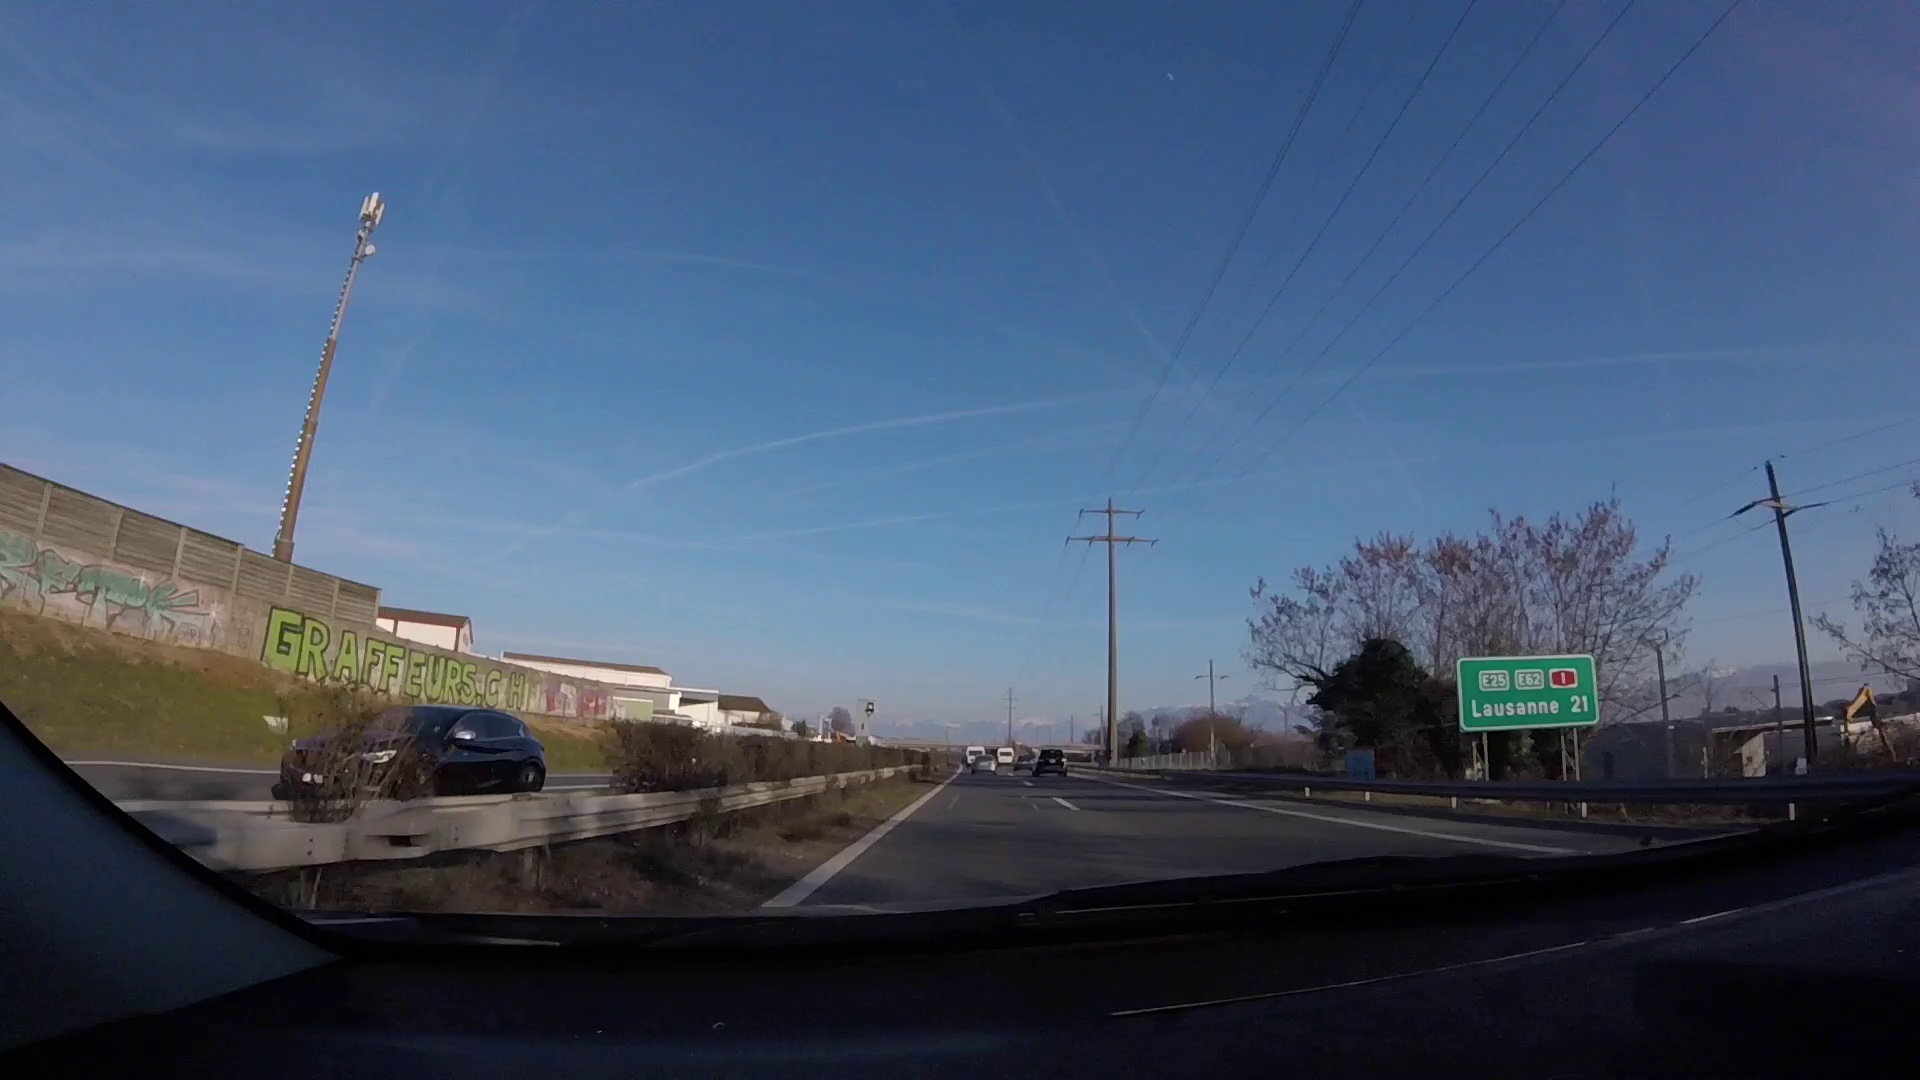radar: (855, 698, 878, 750)
